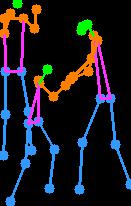normal: (60, 14, 131, 200)
